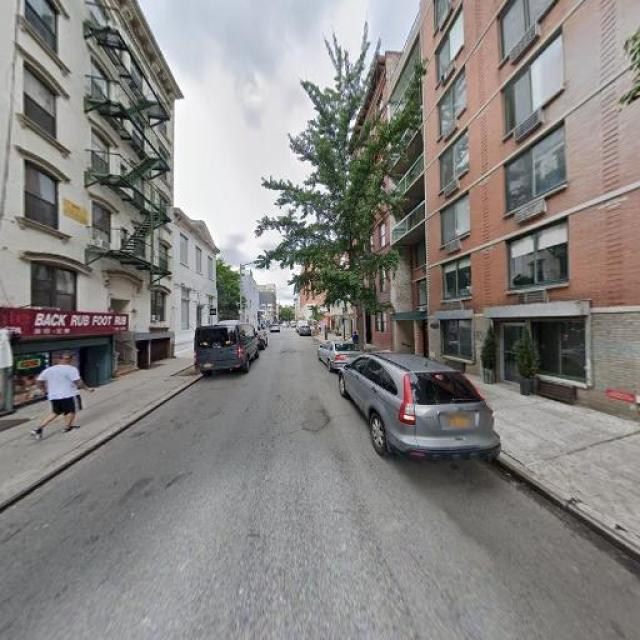Building: (359, 1, 640, 422), (4, 1, 172, 415)
